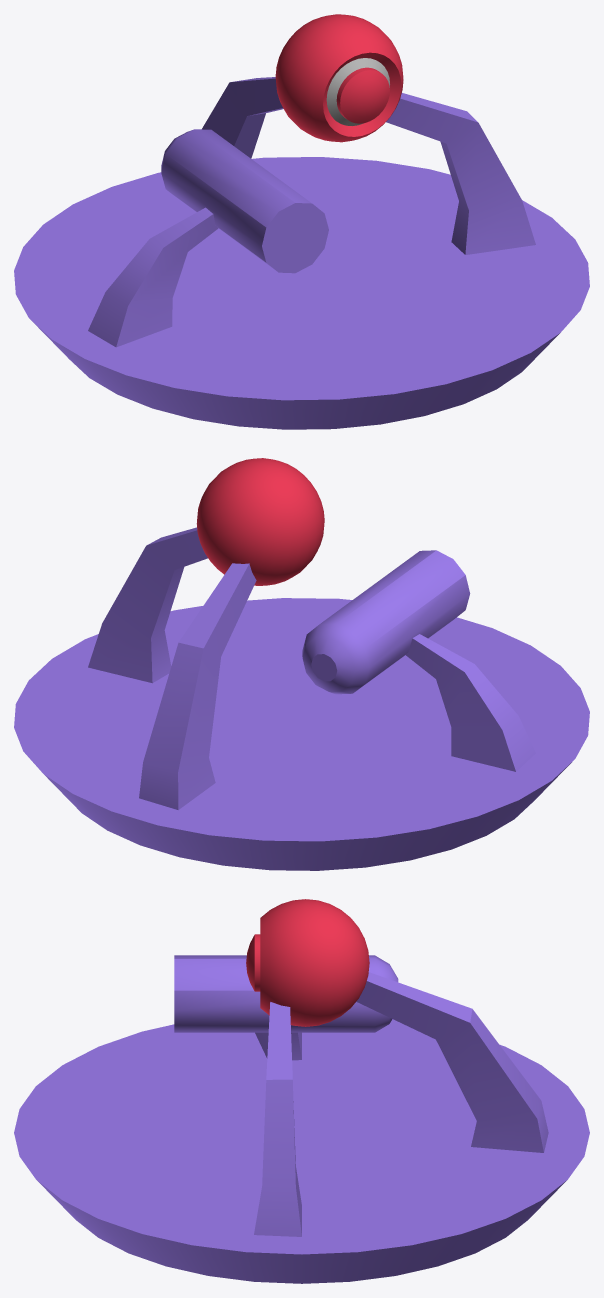
File: CarBody.fbx
The picture shows the model from 3 angles, top to bottom: view 1: azimuth 30°, elevation 25°; view 2: azimuth 150°, elevation 25°; view 3: azimuth 270°, elevation 25°; orthographic projection.
Parts seen in each view (by area): view 1: 球体.001; view 2: 球体.001; view 3: 球体.001.
Part boxes in pixels (x1,y1,x2,y2): 球体.001: (14,14,589,429); 球体.001: (14,458,589,870); 球体.001: (14,899,589,1283).
Size of the model in its own units: 1.66 by 1.03 by 1.66.
